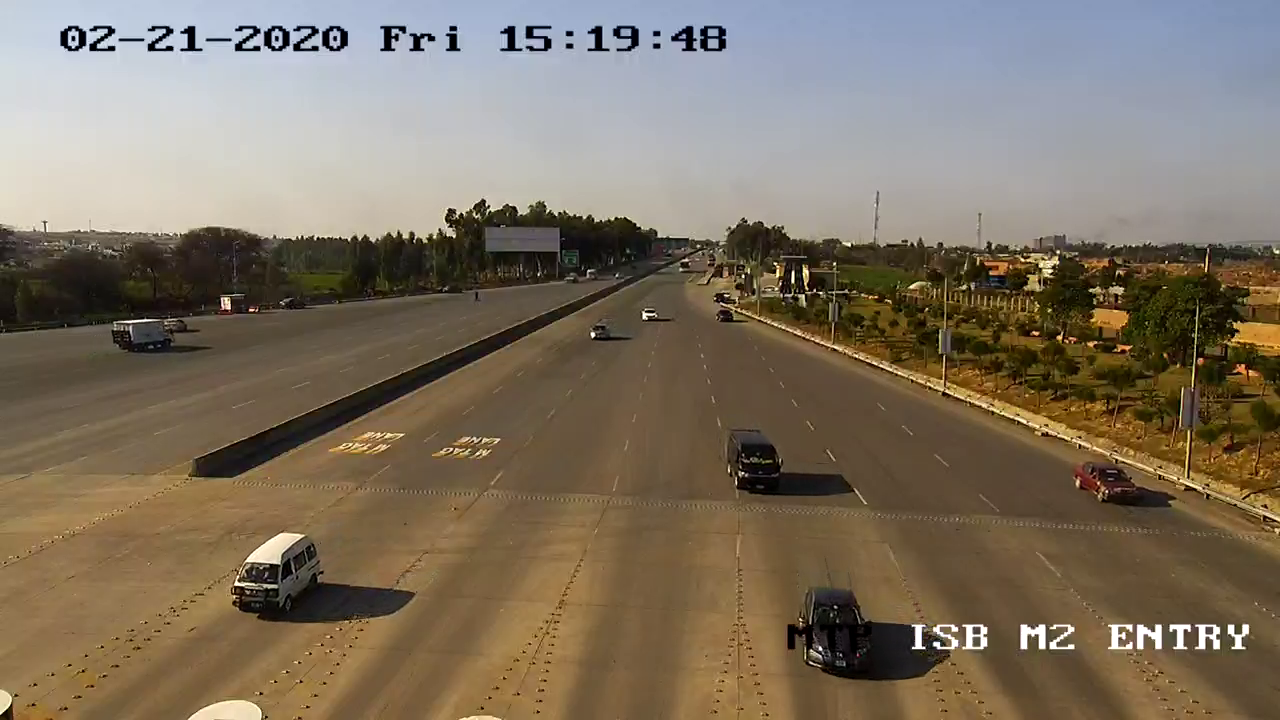f1: (224, 527, 336, 621), (1065, 449, 1146, 512)
f2: (719, 423, 794, 506)
